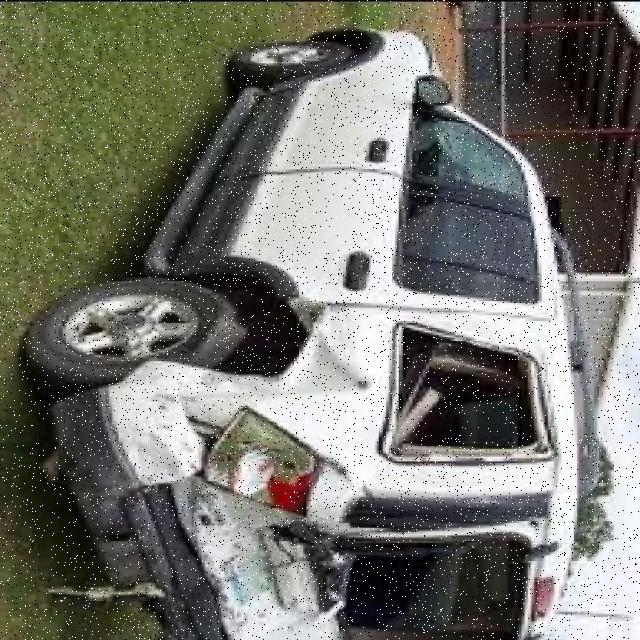damage: (43, 296, 551, 640)
